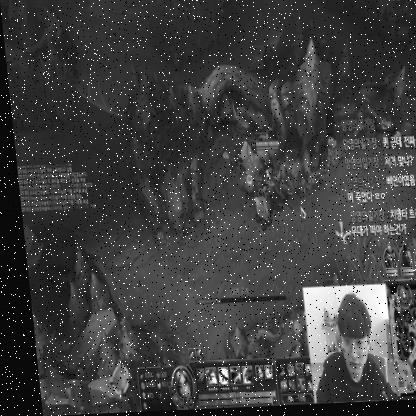streamer: (299, 294, 388, 406)
